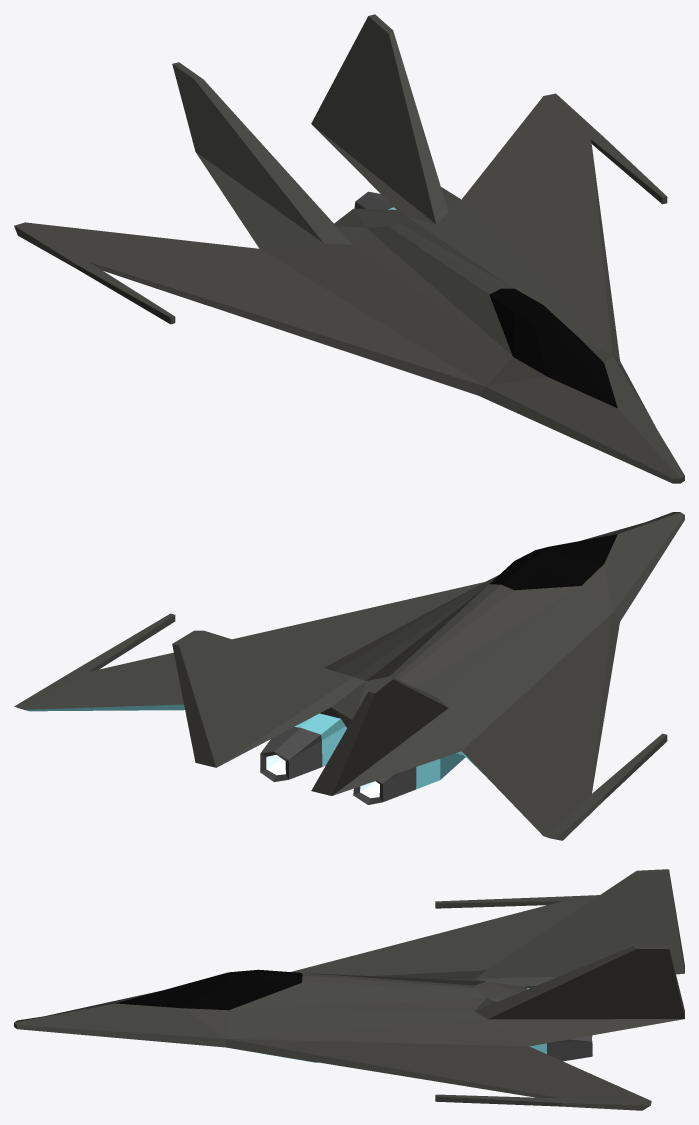
3 renders of one model, top to bottom at view 1: azimuth 30°, elevation 25°; view 2: azimuth 150°, elevation 25°; view 3: azimuth 270°, elevation 25°, orthographic. The views are drawn at different scales.
Parts seen in each view (by area): view 1: Plane; view 2: Plane; view 3: Plane.
Part boxes in pixels (x1,y1,x2,y2): Plane: (14, 14, 684, 483); Plane: (14, 512, 684, 840); Plane: (14, 869, 684, 1110).
Bounding box in the file's own units: 239 × 69.96 × 317.
